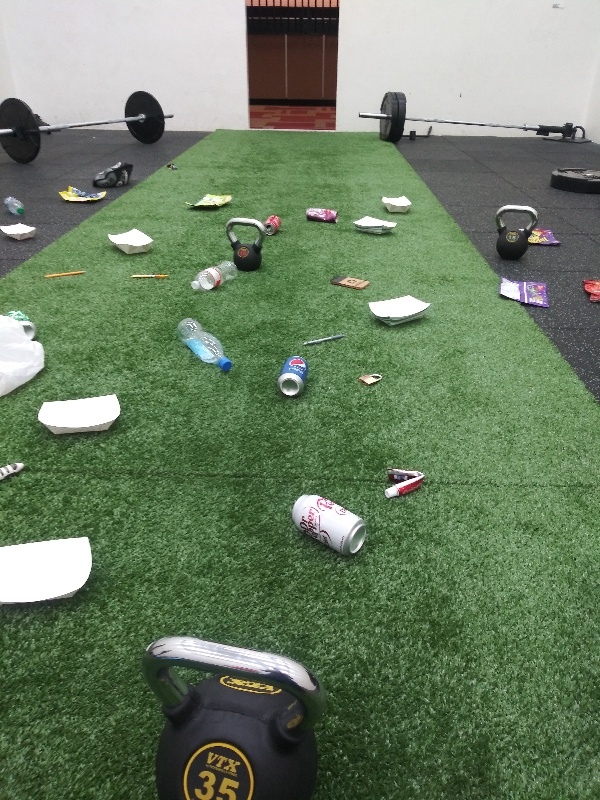bag: (490, 267, 553, 313), (57, 182, 112, 204), (183, 192, 238, 212), (523, 223, 560, 245), (582, 269, 600, 304)
bottle: (170, 312, 238, 381), (186, 255, 238, 294), (4, 190, 27, 217)
can: (282, 491, 371, 561), (275, 351, 310, 401), (2, 302, 41, 335), (302, 205, 343, 225), (263, 212, 285, 235)
plate: (1, 531, 100, 609), (31, 392, 124, 441), (364, 292, 435, 329), (103, 222, 161, 259), (352, 211, 400, 241), (374, 191, 416, 217), (1, 219, 38, 238)
